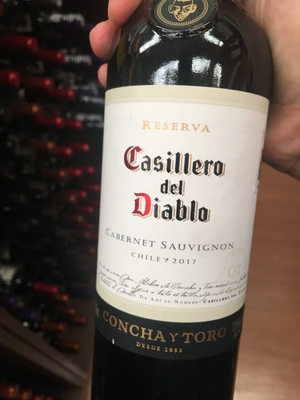casillero del diablo cabernet sauvignon: (85, 14, 268, 400)
